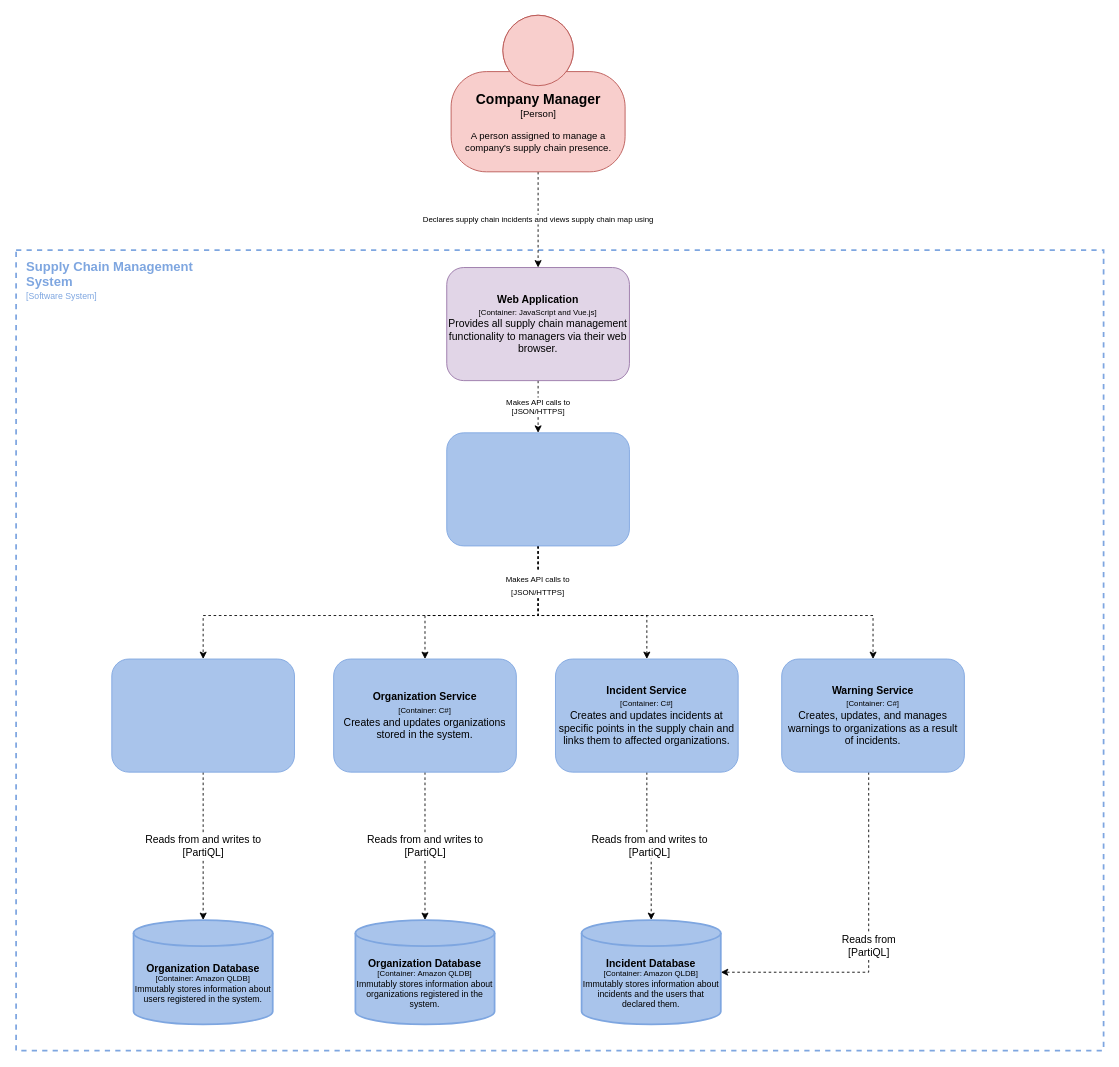
The diagram is 1119 pixels wide and 1067 high, and some of its shapes have lost their labels. Each missing label, with the centre of its shape:
Gateway API [Container: C#] Routes traffic to the application's microservices.: the point at 537,489
User Service [Container: C#] Creates and updates users stored in the system.: the point at 202,715
